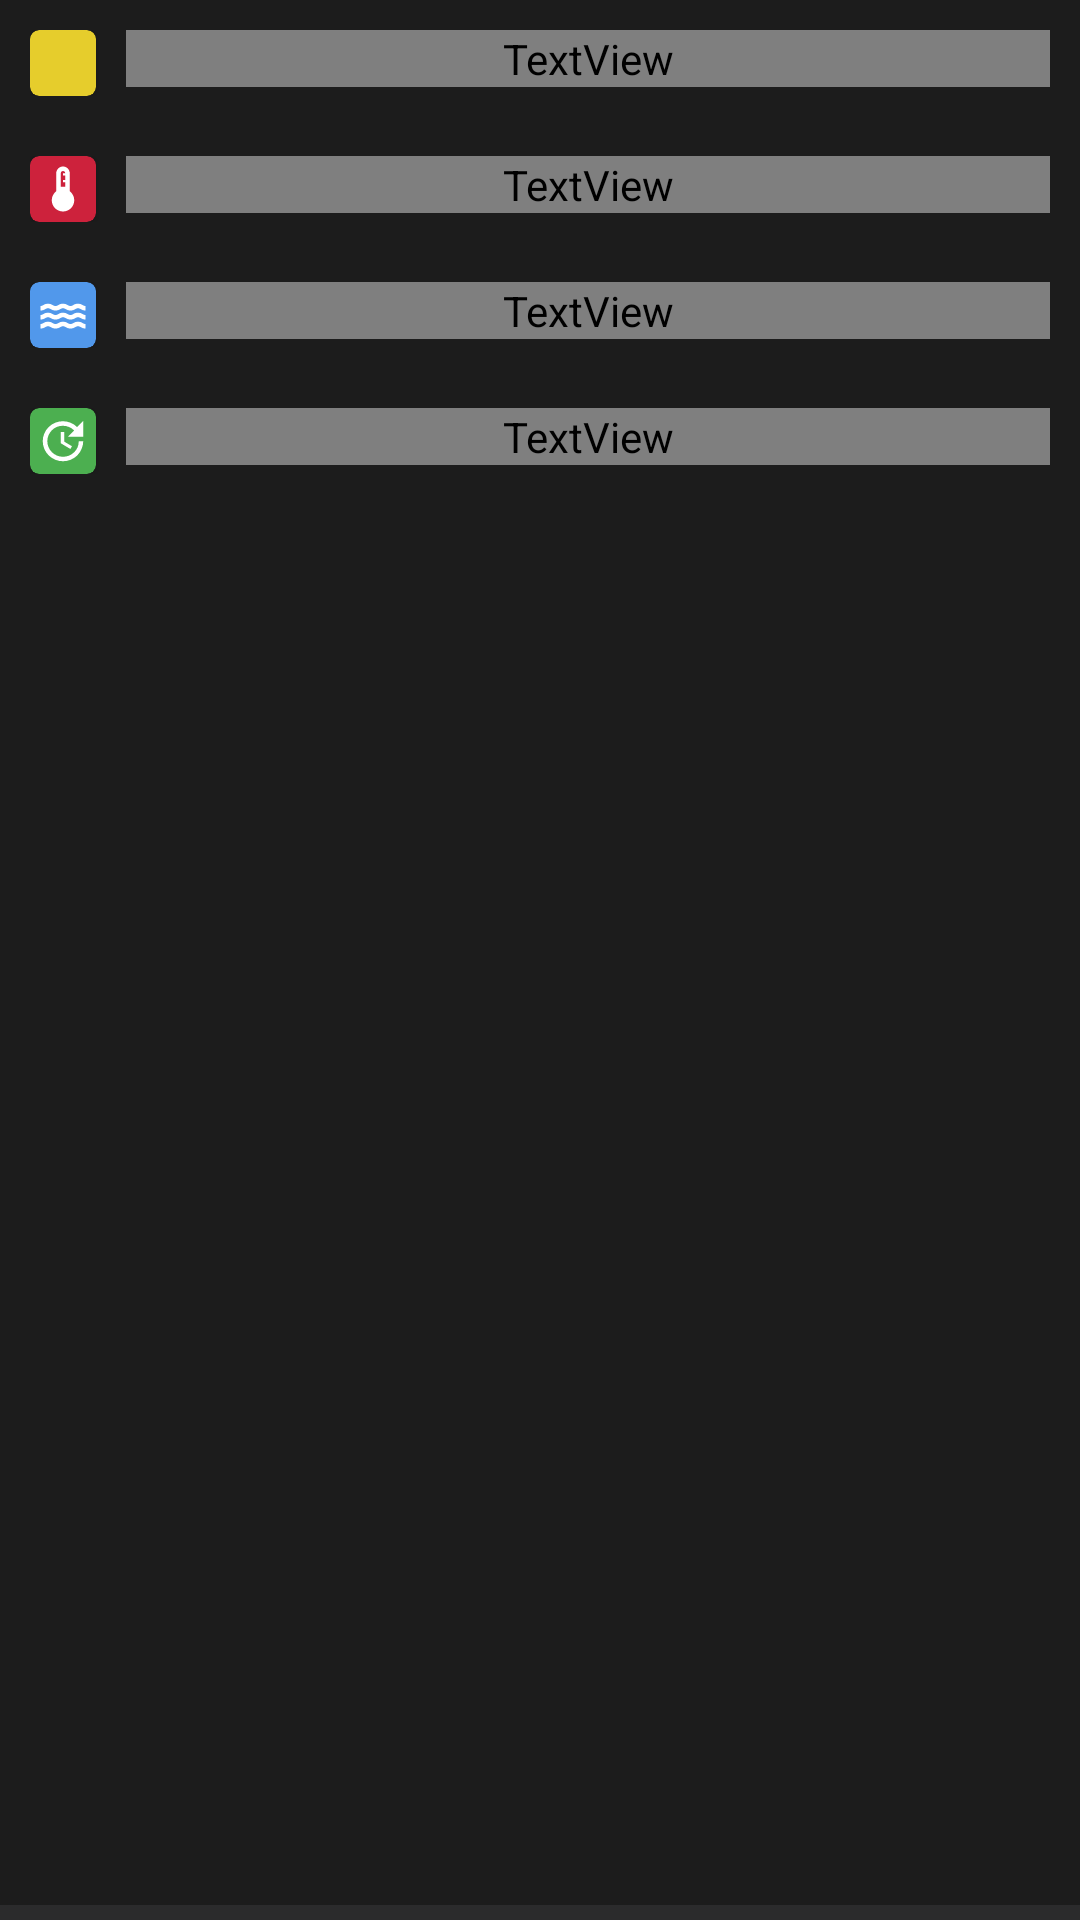

Where to tap for icons on this 1080 x 1920 app screen, as (x=x, y=y):
device thermostat: (x=63, y=189)
update: (x=63, y=441)
water: (x=63, y=316)
